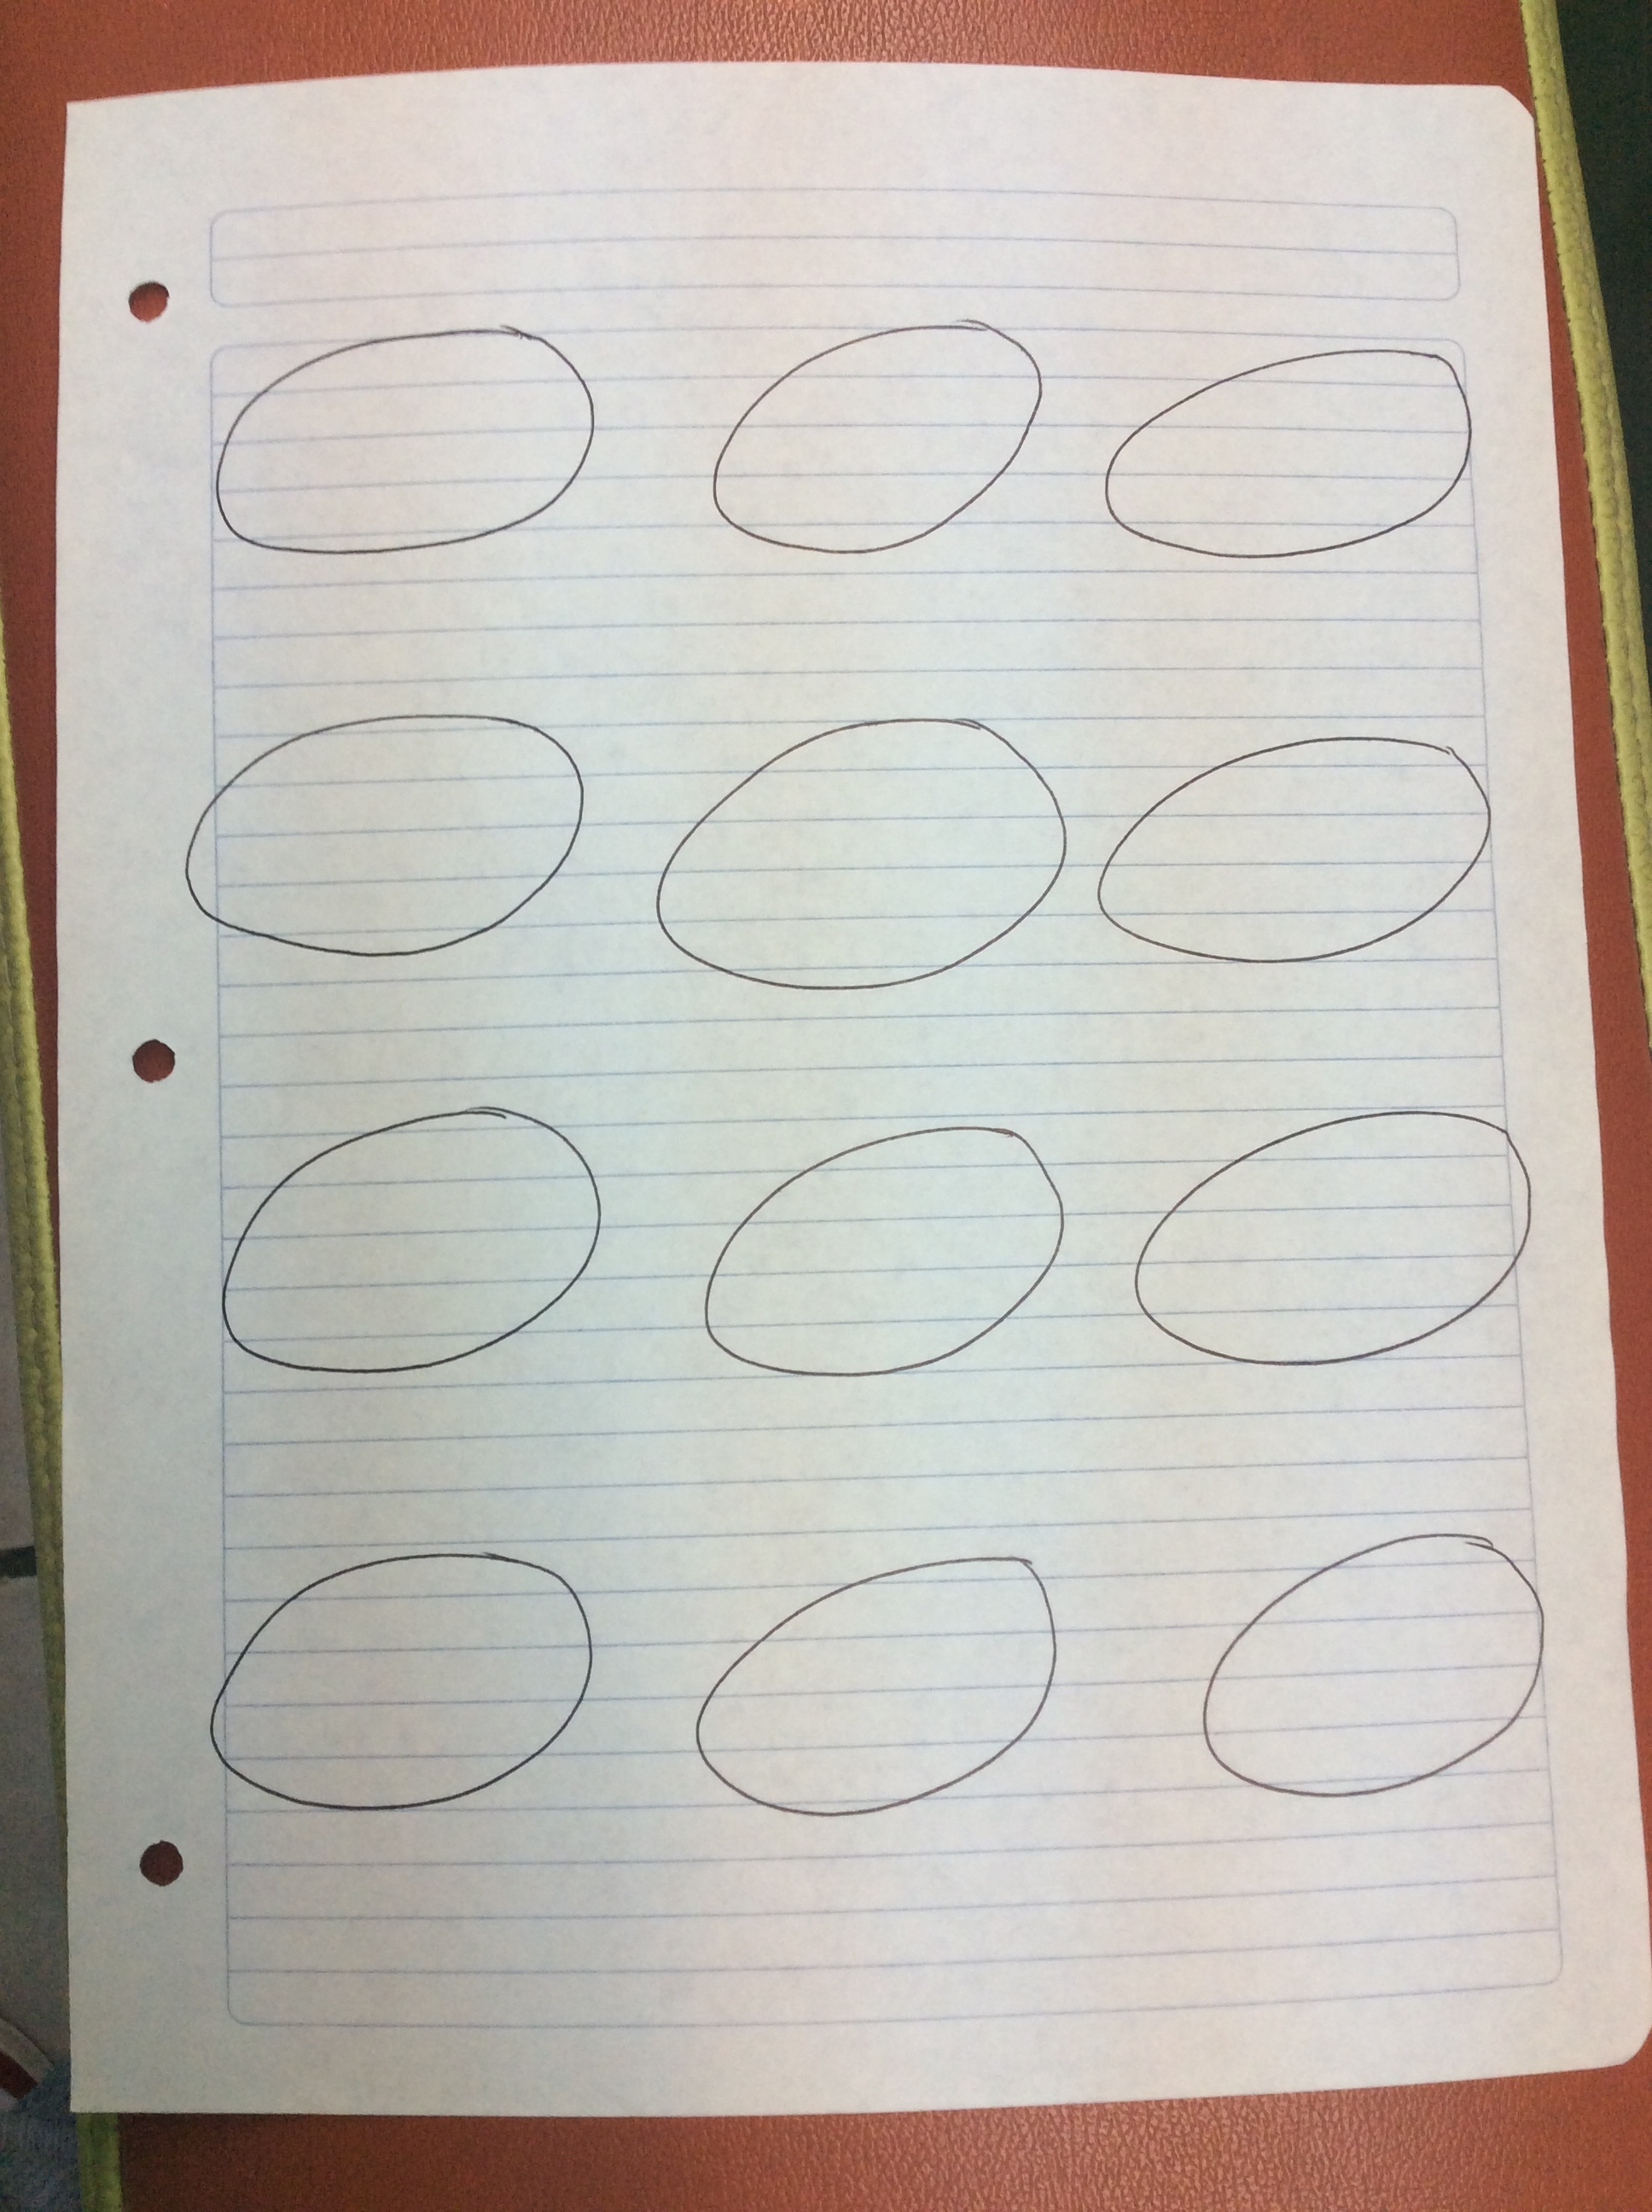start_end: (630, 659, 1074, 1020), (1135, 1489, 1572, 1837), (1114, 1069, 1544, 1386), (677, 1072, 1078, 1410), (172, 1535, 630, 1830), (661, 1513, 1071, 1841), (193, 1076, 613, 1386), (142, 689, 595, 973), (1090, 689, 1499, 980), (179, 304, 609, 578), (1085, 304, 1484, 590), (672, 286, 1053, 579)
